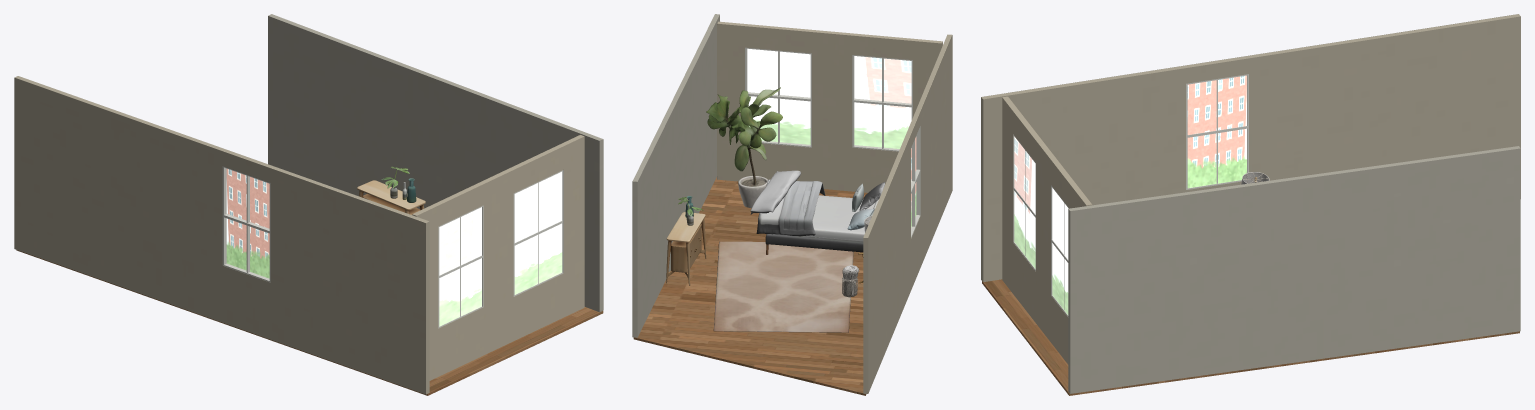
The model's file is bedroom.glb.
3 views of the same model, side by side, from view 1: azimuth 30°, elevation 25°; view 2: azimuth 150°, elevation 25°; view 3: azimuth 270°, elevation 25° (orthographic). The views are drawn at different scales.
Visible parts, largest first — view 1: wall_2, wall_0, wall_1, wall_1_backdrop, wall_2_backdrop, floor_0, wall_1_frames, wall_2_frames, obj_cabinet_0; view 2: wall_1, floor_0, wall_2, wall_0, obj_rug_0, wall_1_backdrop, obj_pot_0, obj_bed_0, obj_blanket_0, wall_1_frames, obj_cabinet_0, obj_blanket_1 (+3 smaller); view 3: wall_0, wall_2, wall_1, wall_2_backdrop, wall_1_backdrop, floor_0, wall_1_frames, wall_2_frames.
Boxes of the visible parts, box(x1,y1,x2,y2) form: wall_2: box(14, 76, 429, 394); wall_0: box(268, 14, 603, 312); wall_1: box(412, 135, 584, 380); wall_1_backdrop: box(439, 171, 562, 326); wall_2_backdrop: box(226, 168, 269, 278); floor_0: box(16, 250, 603, 395); wall_1_frames: box(438, 170, 563, 328); wall_2_frames: box(222, 166, 270, 282); obj_cabinet_0: box(357, 180, 425, 214); wall_1: box(717, 21, 942, 192); floor_0: box(633, 177, 867, 395); wall_2: box(863, 34, 952, 393); wall_0: box(632, 14, 719, 337); obj_rug_0: box(713, 241, 853, 332); wall_1_backdrop: box(747, 48, 911, 148); obj_pot_0: box(706, 87, 782, 207); obj_bed_0: box(765, 195, 875, 254); obj_blanket_0: box(756, 179, 825, 236); wall_1_frames: box(745, 47, 912, 151); obj_cabinet_0: box(666, 212, 706, 285); obj_blanket_1: box(750, 170, 801, 214); wall_0: box(1068, 146, 1520, 393); wall_2: box(981, 14, 1520, 282); wall_1: box(1002, 96, 1092, 364); wall_2_backdrop: box(1187, 75, 1246, 188); wall_1_backdrop: box(1014, 136, 1068, 314); floor_0: box(982, 279, 1519, 395); wall_1_frames: box(1013, 134, 1068, 316); wall_2_frames: box(1186, 74, 1248, 189).
Bounding box in the file's own units: 6.13 × 2.69 × 7.09.
27 materials, 25 textured.
